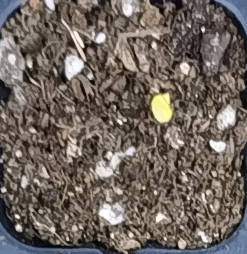pepper seed: (64, 32, 238, 154)
